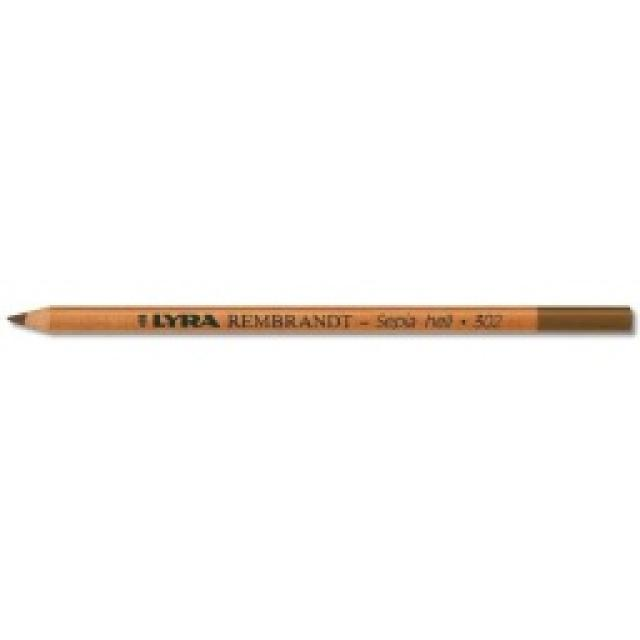pencil: (5, 300, 637, 338)
